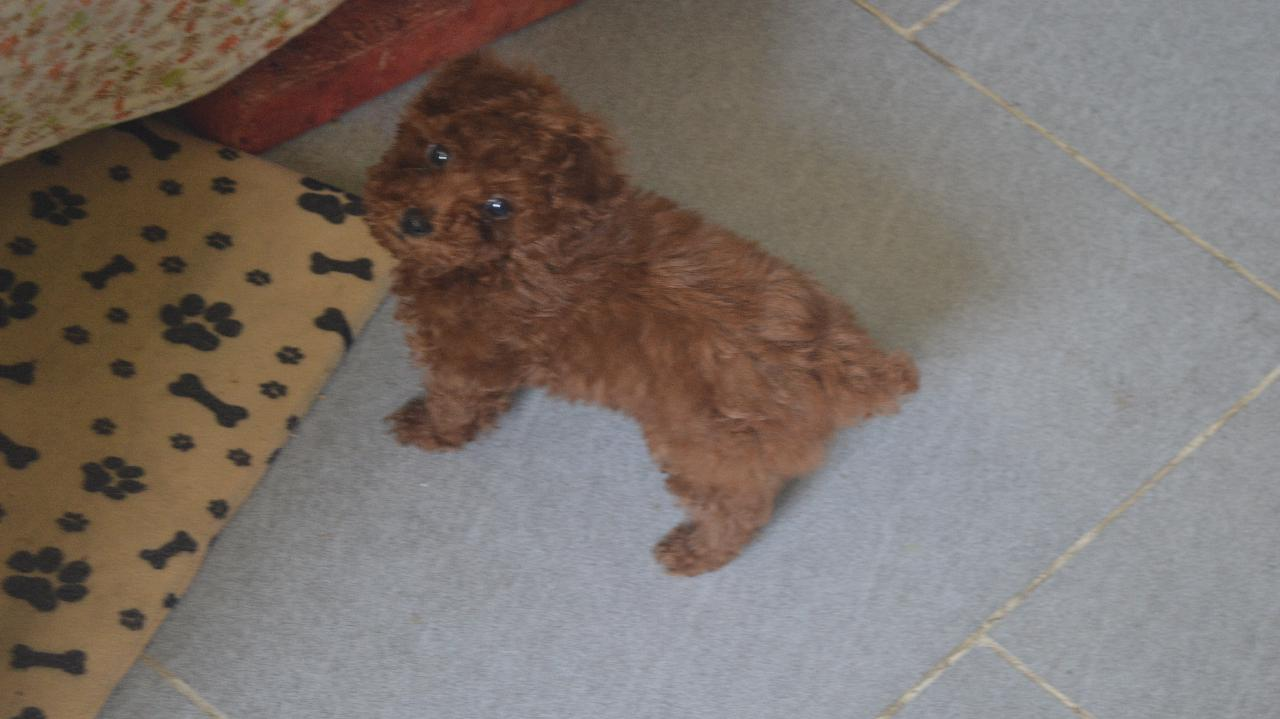coin: (363, 41, 920, 593)
